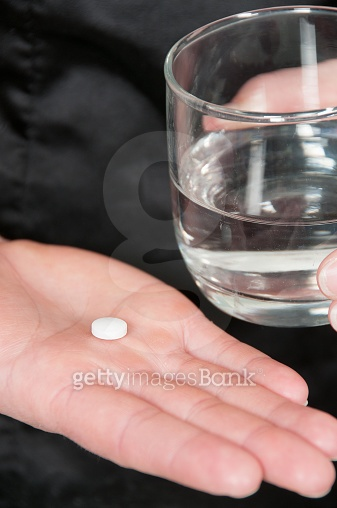glass of water: (163, 15, 337, 333)
